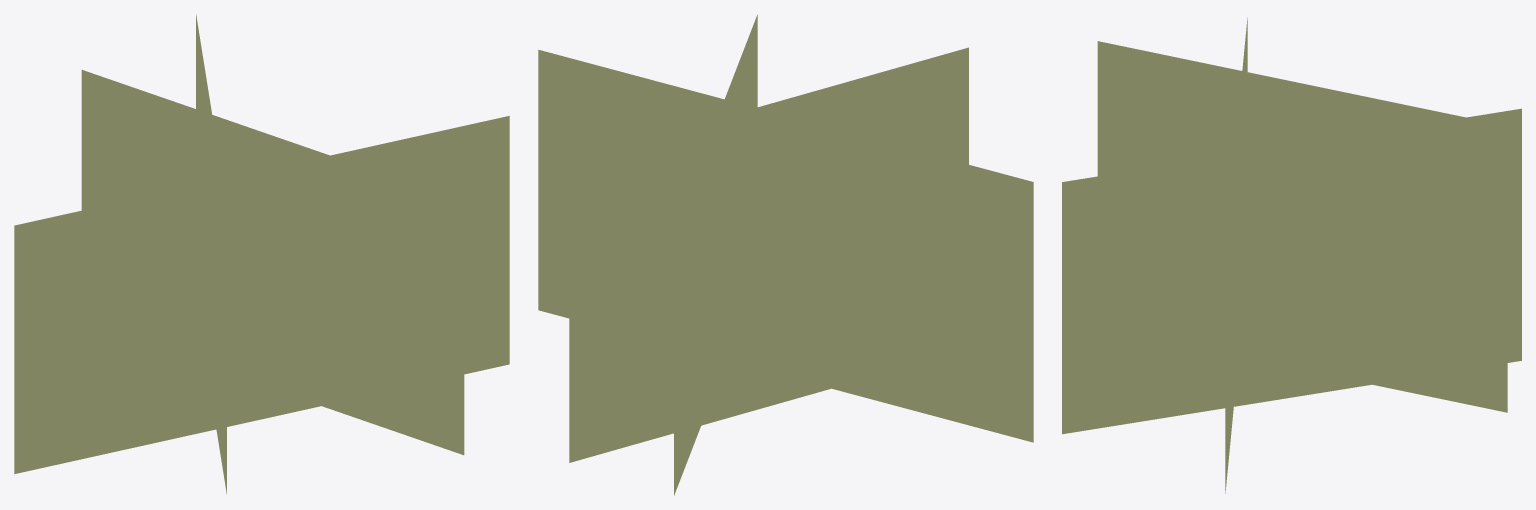
Rendered from ZR_GrassClump.fbx.
The picture shows the model from 3 angles, left to right: view 1: azimuth 30°, elevation 25°; view 2: azimuth 150°, elevation 25°; view 3: azimuth 270°, elevation 25°; orthographic projection. The views are drawn at different scales.
Parts seen in each view (by area): view 1: ZR_GrassClump; view 2: ZR_GrassClump; view 3: ZR_GrassClump.
Boxes of the visible parts, x1=… form: ZR_GrassClump: x1=14, y1=14, x2=509, y2=494; ZR_GrassClump: x1=538, y1=14, x2=1033, y2=495; ZR_GrassClump: x1=1062, y1=17, x2=1521, y2=493.
Bounding box in the file's own units: 1.22 × 0.6942 × 1.01.
